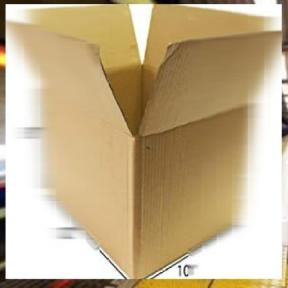box: (1, 0, 286, 284)
